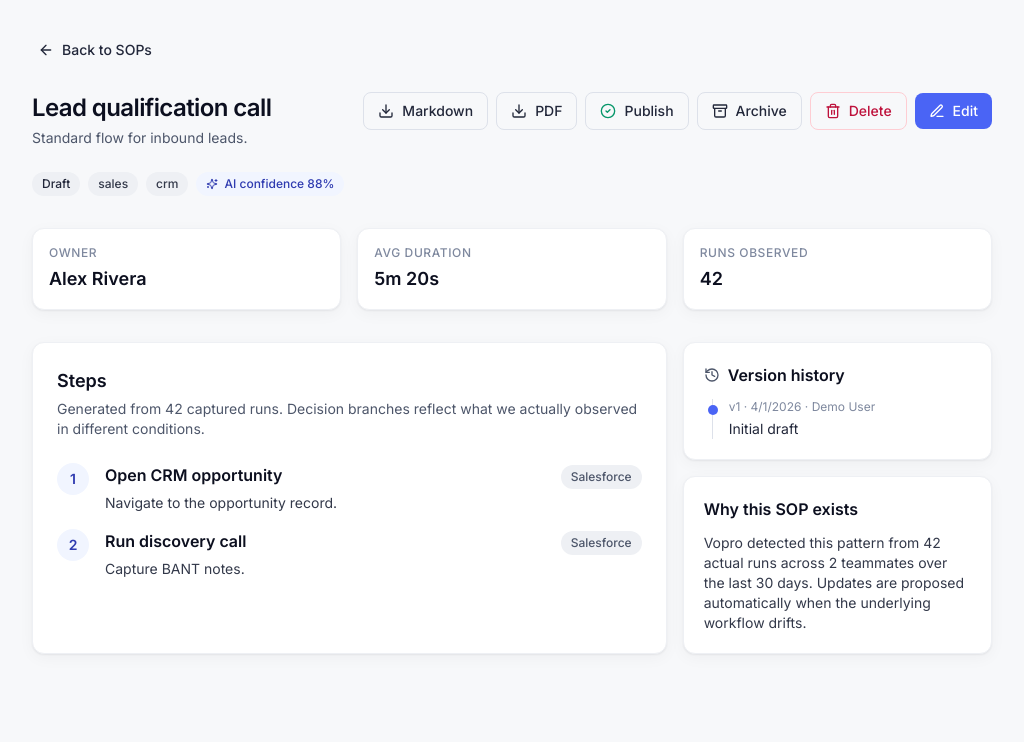
SopDetailPage › toggles into an inline edit panel when Edit is clicked
Expected: the heading "Lead qualification call" is shown, [32,92,271,124]
Click the button "Edit" at (953, 111), box [915,93,992,129]
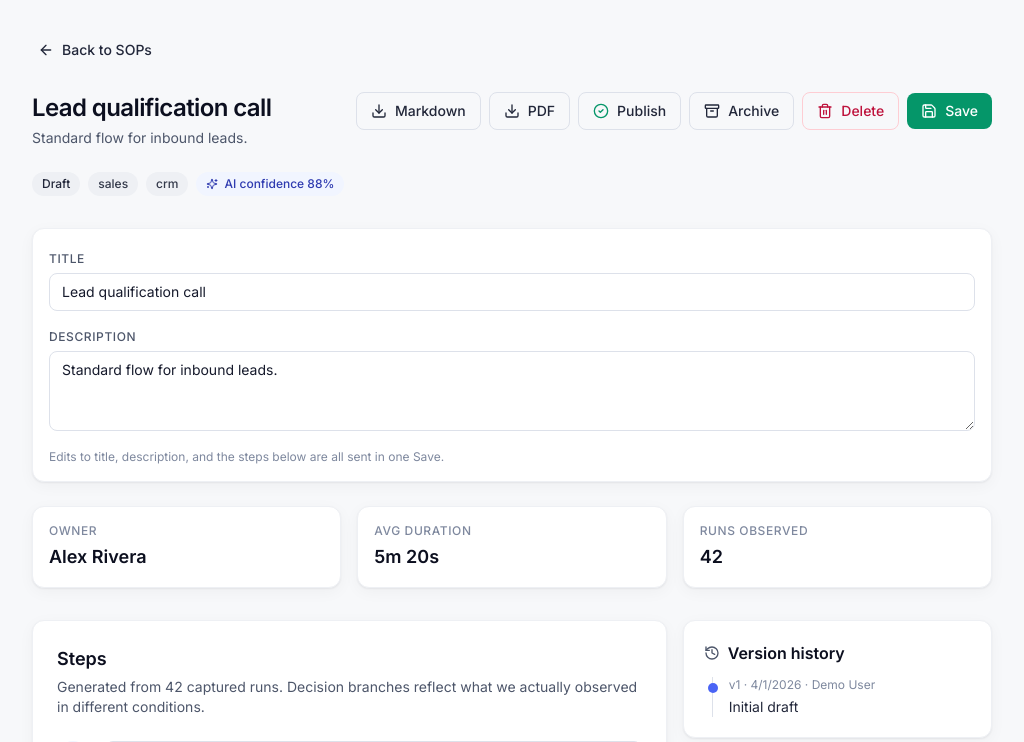
Expected: the text "Title" is shown, [49,251,85,266]
Expected: the text "Description" is shown, [49,329,136,344]
Expected: the button "Save" is shown, [907,93,992,129]
